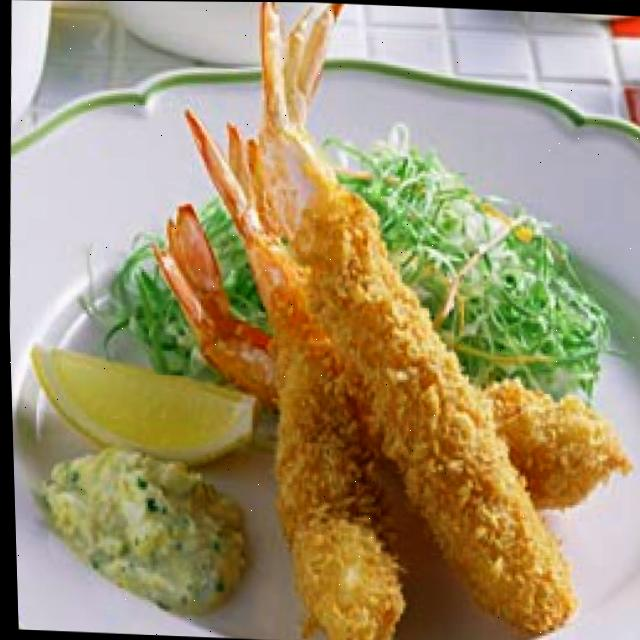炸货点心: (123, 1, 640, 640)
熟制海鲜: (123, 1, 640, 640)
